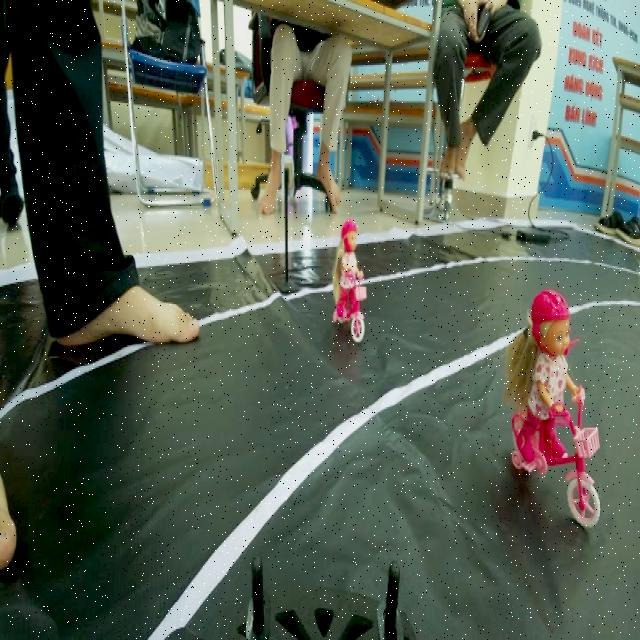pedestrian: (499, 276, 609, 538), (320, 202, 381, 340)
